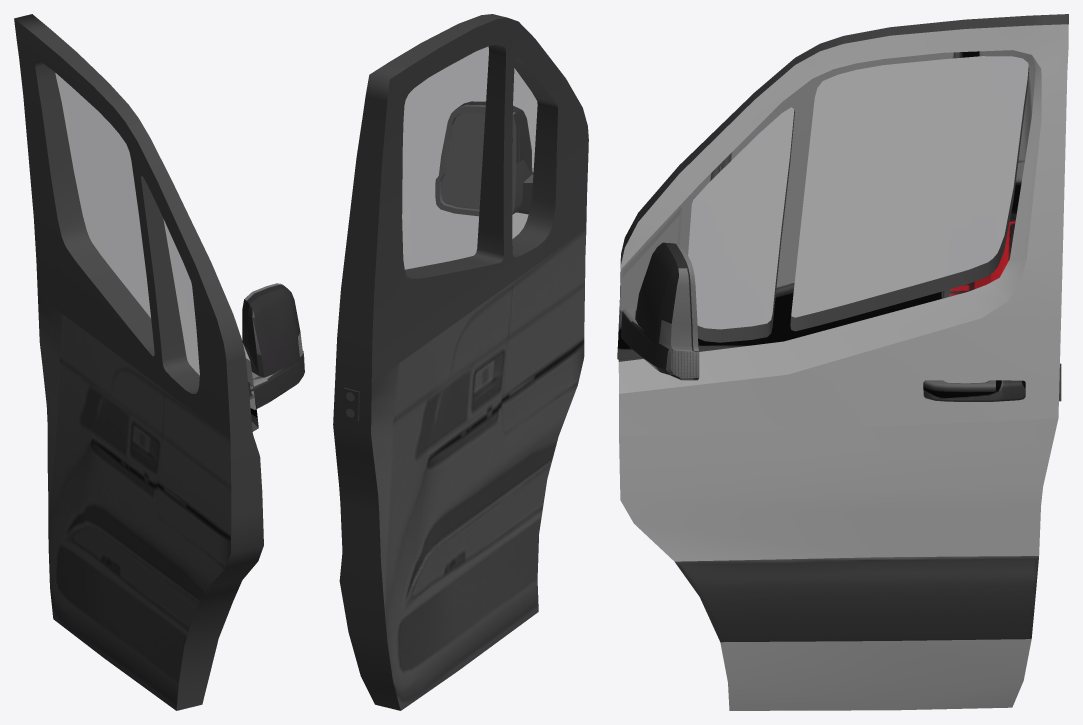
The model's file is vanDoorL.fbx.
3 renders of one model, left to right at view 1: azimuth 30°, elevation 25°; view 2: azimuth 150°, elevation 25°; view 3: azimuth 270°, elevation 25°, orthographic. The views are drawn at different scales.
Parts seen in each view (by area): view 1: Door_FL; view 2: Door_FL; view 3: Door_FL.
Part boxes in pixels (x1,y1,x2,y2): Door_FL: (14,14,304,710); Door_FL: (333,14,588,710); Door_FL: (617,14,1068,710).
Size of the model in its own units: 23.36 by 109 by 66.32.
